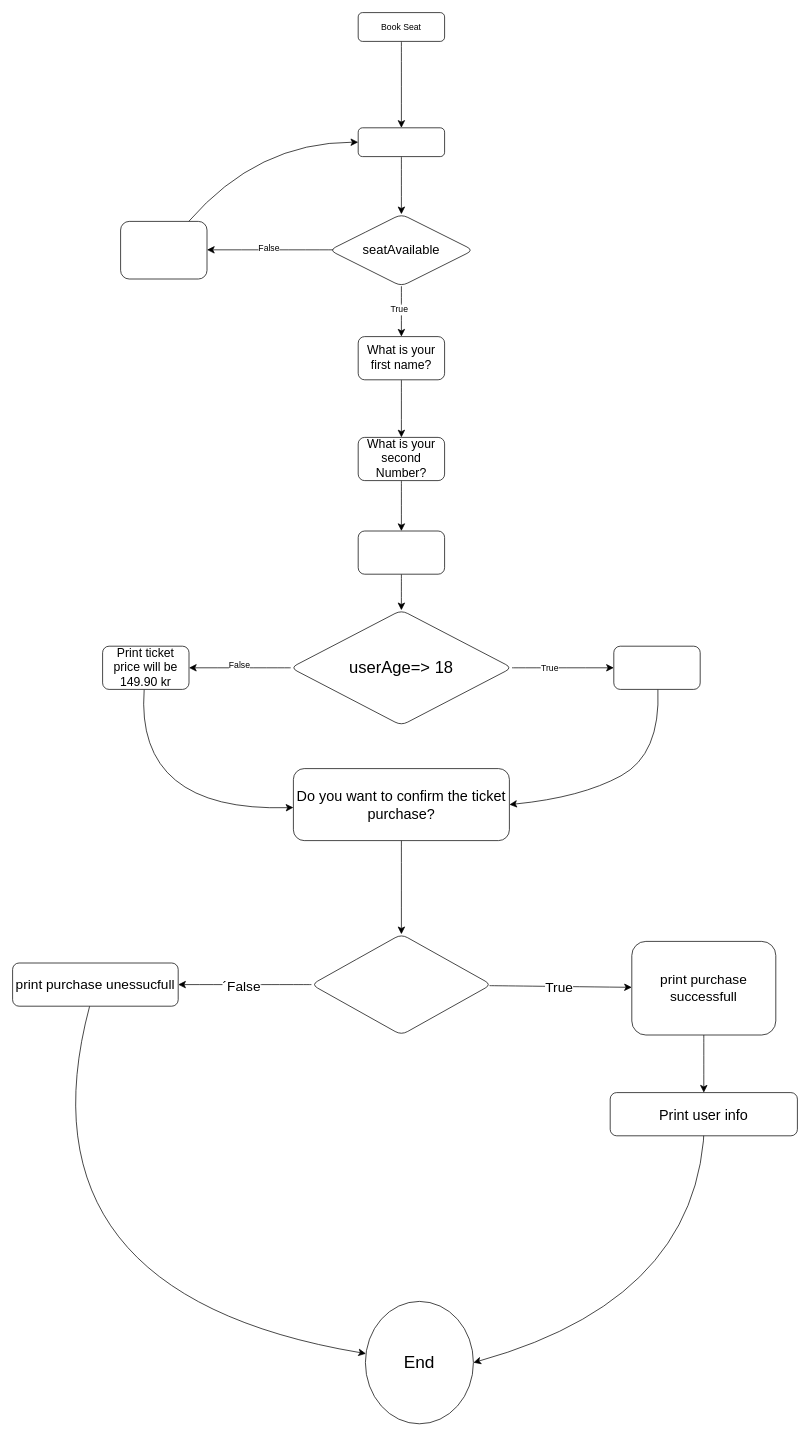
This 810x1436 diagram has some shape labels left out. Here are the shapes that lost their labels. From the top down, the centre of each, then its label:
At (x=401, y=142): "Scan user seat Number".
At (x=163, y=250): "Already booked".
At (x=401, y=552): "What is your personal Number".
At (x=656, y=667): "Print ticket price will be 299.90 kr".
At (x=401, y=984): "purchaseComfirmed".
